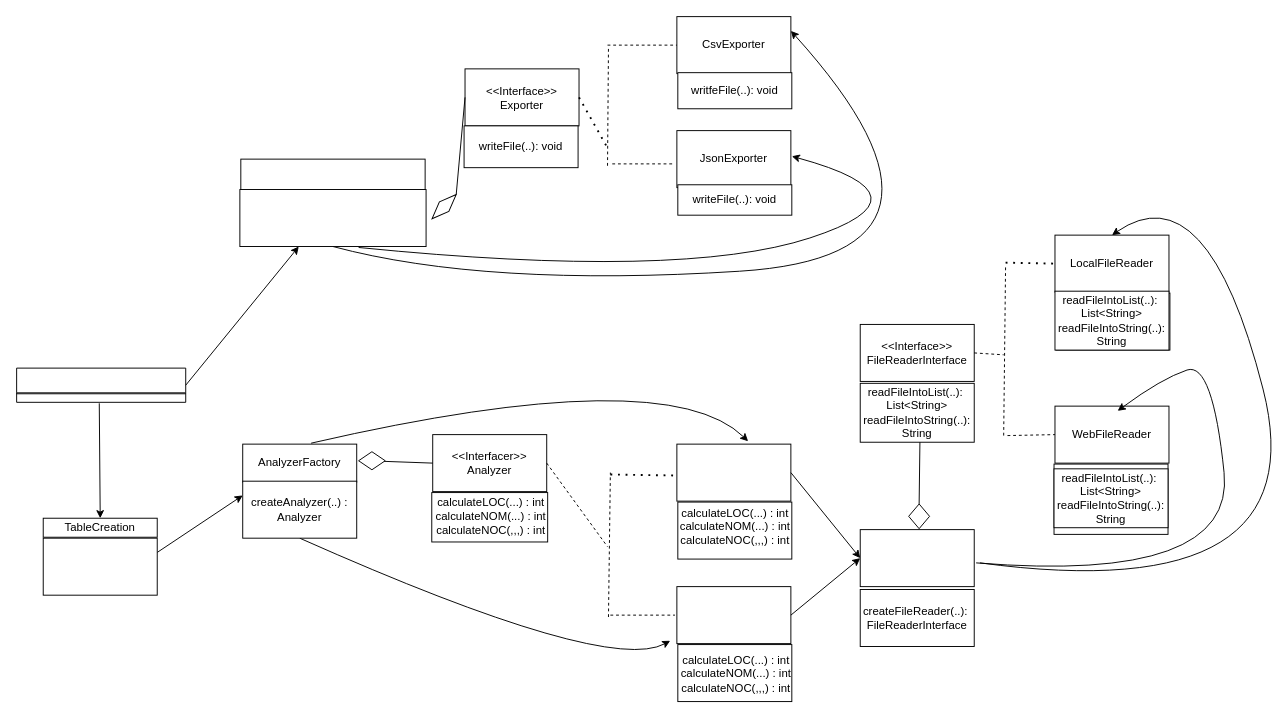
Image size: 1288x718. Some labels were removed from this diagram. The centre of each missing label's shape, as x and y in pixels:
"createFileExporter(..):Exporter" goes at (332,218).
"createTable(..): Map<String, Integer>" goes at (99,566).
"Demo Client" goes at (101,384).
"ExporterFactory" goes at (332,174).
"FileReaderFactory" goes at (916,558).
"RegexAnalyzer" goes at (733,472).
"StrCompAnalyzer" goes at (733,615).
